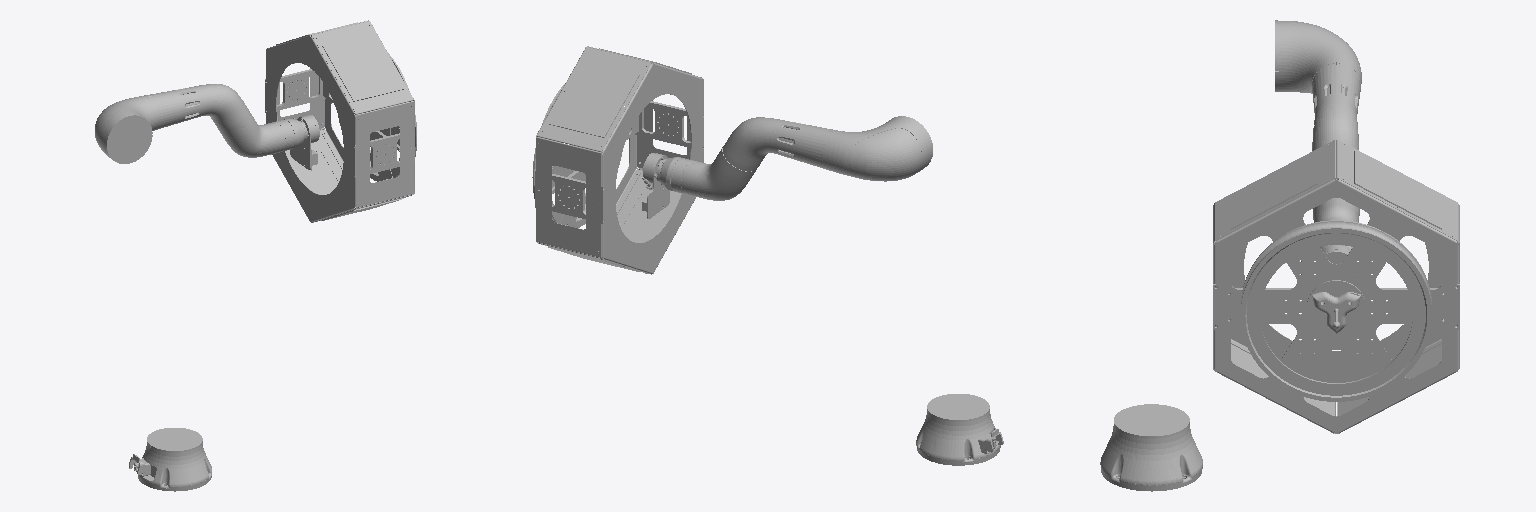
The robot description file, URDF, robot "yl102_sat_core_7dof":
<?xml version="1.0" encoding="utf-8"?>

<robot name="yl102_sat_core_7dof">
<link name="world"/>
  <link name="link0">

                      
    <inertial>
      <origin xyz="0.000247812 0.000247476 0.0505918" rpy="0 0 0" />
      <mass value="4.59375" />
      <inertia ixx="0.0152439" ixy="0.000200106" ixz="0.000124082" iyy="0.0273594" iyz="1.06874e-05" izz="0.0370589" />
    </inertial>
    <visual>
      <origin xyz="0 0 0" rpy="0 0 0" />
      <geometry>
        <mesh filename="meshes/link0.stl"    />
      </geometry>
      <material name="">
        <color rgba="0.75294 0.75294 0.75294 1" />
      </material>
    </visual>
    <collision>
      <origin xyz="0 0 0" rpy="0 0 0" />
      <geometry>
        <mesh filename="meshes/link0.stl"    />
      </geometry>
    </collision>
  </link>

  <link name="link1">
    <inertial>
    <origin xyz="0.000142015 0.0285074 0.119455" rpy="0 0 0" />
    <mass value="10.51657" />
    <inertia ixx="0.0551209" ixy="-5.13223e-05" ixz="-4.83089e-05" iyy="0.0494305" iyz="-0.0110939" izz="0.0363787" />
  </inertial>
    <visual>
      <origin xyz="0 0 0" rpy="0 0 0" />
      <geometry>
        <mesh filename="meshes/link1.stl"    />
      </geometry>
      <material name="">
        <color rgba="0.75294 0.75294 0.75294 1" />
      </material>
    </visual>
    <collision>
      <origin xyz="0 0 0" rpy="0 0 0" />
      <geometry>
        <mesh filename="meshes/link1.stl"    />
      </geometry>
    </collision>
  </link>

  <link name="link2">
<inertial>
  <origin xyz="0.297682 0.000392564 0.0575885" rpy="0 0 0" />
  <mass value="13.550371" />
  <inertia ixx="0.102354" ixy="0.147595" ixz="0.00104147" iyy="1.48599" iyz="-0.000372513" izz="1.43248" />
</inertial>
    <visual>
      <origin xyz="0 0 0" rpy="0 0 0" />
      <geometry>
        <mesh filename="meshes/link2.stl"    />
      </geometry>
      <material name="">
        <color rgba="0.75294 0.75294 0.75294 1" />
      </material>
    </visual>
    <collision>
      <origin xyz="0 0 0" rpy="0 0 0" />
      <geometry>
        <mesh filename="meshes/link2.stl"    />
      </geometry>
    </collision>
  </link>

  <link name="link3">

<inertial>
  <origin xyz="0.0320635 0.000171503 0.0829559" rpy="0 0 0" />
  <mass value="5.290133" />
  <inertia ixx="0.0153011" ixy="-0.00582277" ixz="2.85545e-05" iyy="0.022998" iyz="-2.03293e-05" izz="0.0180684" />
</inertial>
    <visual>
      <origin xyz="0 0 0" rpy="0 0 0" />
      <geometry>
        <mesh filename="meshes/link3.stl"    />
      </geometry>
      <material name="">
        <color rgba="0.75294 0.75294 0.75294 1" />
      </material>
    </visual>
    <collision>
      <origin xyz="0 0 0" rpy="0 0 0" />
      <geometry>
        <mesh filename="meshes/link3.stl"    />
      </geometry>
    </collision>
  </link>

  <link name="link4">
<inertial>
  <origin xyz="0.013664 -0.000984818 0.150329" rpy="0 0 0" />
  <mass value="3.595617" />
  <inertia ixx="0.0268371" ixy="-0.0043623" ixz="2.99902e-05" iyy="0.0282347" iyz="0.000149903" izz="0.00518421" />
</inertial>

    <visual>
      <origin xyz="0 0 0" rpy="0 0 0" />
      <geometry>
        <mesh filename="meshes/link4.stl"    />
      </geometry>
      <material name="">
        <color rgba="0.75294 0.75294 0.75294 1" />
      </material>
    </visual>
    <collision>
      <origin xyz="0 0 0" rpy="0 0 0" />
      <geometry>
        <mesh filename="meshes/link4.stl"    />
      </geometry>
    </collision>
  </link>

  <link name="link5">
<inertial>
  <origin xyz="0.015522 0.000368096 0.0840352" rpy="0 0 0" />
  <mass value="2.643843" />
  <inertia ixx="0.00606419" ixy="-0.0016915" ixz="-1.2174e-05" iyy="0.00720539" iyz="-2.18997e-05" izz="0.00353509" />
</inertial>
    <visual>
      <origin xyz="0 0 0" rpy="0 0 0" />
      <geometry>
        <mesh filename="meshes/link5.stl"    />
      </geometry>
      <material name="">
        <color rgba="0.75294 0.75294 0.75294 1" />
      </material>
    </visual>
    <collision>
      <origin xyz="0 0 0" rpy="0 0 0" />
      <geometry>
        <mesh filename="meshes/link5.stl"    />
      </geometry>
    </collision>
  </link>

  <link name="link6">
  <inertial>
    <origin xyz="0.000133705 -0.000192709 0.0334362" rpy="0 0 0" />
    <mass value="1.094456" />
    <inertia ixx="0.000502088" ixy="-4.44825e-07" ixz="2.32639e-07" iyy="0.000502074" iyz="-3.01736e-07" izz="0.000531034" />
  </inertial>
    <visual>
      <origin xyz="0 0 0" rpy="0 0 0" />
      <geometry>
        <mesh filename="meshes/link6.stl"    />
      </geometry>
      <material name="">
        <color rgba="0.75294 0.75294 0.75294 1" />
      </material>
    </visual>
    <collision>
      <origin xyz="0 0 0" rpy="0 0 0" />
      <geometry>
        <mesh filename="meshes/link6.stl"    />
      </geometry>
    </collision>
  </link>

 

  <link name="link_flange">
  <inertial>
    <origin xyz="-0.03225391 -0.0007543 0.02048268" rpy="0 0 0" />
    <mass value="0.71" />
    <inertia ixx="0.00052611" ixy="-0.00002865" ixz="0.00005824" iyy="0.00131947" iyz="0.00001746" izz="0.00166657" />
  </inertial>
    <visual>
      <origin xyz="0 0 0" rpy="0 0 0" />
      <geometry>
        <mesh filename="meshes/link_FT.stl"    />
      </geometry>
      <material name="">
        <color rgba="0.75294 0.75294 0.75294 1" />
      </material>
    </visual>
    <collision>
      <origin xyz="0 0 0" rpy="0 0 0" />
      <geometry>
        <mesh filename="meshes/link_FT.stl"    />
      </geometry>
    </collision>
  </link>

  <link name="link_ft">
  <inertial>
    <origin xyz="0 0 00" rpy="0 0 0" />
    <mass value="00" />
    <inertia ixx="0" ixy="0.0" ixz="0.0" iyy="0.0" iyz="0.0" izz="0.0" />
  </inertial>
  </link>

  <link name="link_core">
  <inertial>
    <origin xyz="-0.00 -0.00001028 0.11262145" rpy="0 0 0" />
    <mass value="1.97" />
    <inertia ixx="0.00420351" ixy="0.0" ixz="0.0" iyy="0.00420293" iyz="0.00000196" izz="0.00081619" />
  </inertial>
    <visual>
      <origin xyz="0 0 0" rpy="0 0 0" />
      <geometry>
        <mesh filename="meshes/link_CORE100.stl"    />
      </geometry>
      <material name="">
        <color rgba="0.75294 0.75294 0.75294 1" />
      </material>
    </visual>
    <collision>
      <origin xyz="0 0 0" rpy="0 0 0" />
      <geometry>
        <mesh filename="meshes/link_CORE100.stl"    />
      </geometry>
    </collision>
  </link>

  <link name="link_tcp_CoM">
  <inertial>
    <origin xyz="0 0 00" rpy="0 0 0" />
    <mass value="00" />
    <inertia ixx="0" ixy="0.0" ixz="0.0" iyy="0.0" iyz="0.0" izz="0.0" />
  </inertial>
  </link>

  <link name="link_sat">
  <inertial>
    <origin xyz="-0.00001548 -0.00000864 -0.04116212" rpy="0 0 0" />
    <mass value="6.066" />
    <inertia ixx="0.20623419" ixy="0.00000992" ixz="0.00000431" iyy="0.16710638" iyz="0.00000249" izz="0.29462577" />
  </inertial>
    <visual>
      <origin xyz="0 0 0" rpy="0 0 0" />
      <geometry>
        <mesh filename="meshes/link_sat_without_pannel.stl"    />
      </geometry>
      <material name="">
        <color rgba="0.75294 0.75294 0.75294 1" />
      </material>
    </visual>
    <collision>
      <origin xyz="0 0 0" rpy="0 0 0" />
      <geometry>
        <mesh filename="meshes/link_sat_without_pannel.stl"    />
      </geometry>
    </collision>
  </link>


<!-- joints -->
<joint name="world_fixed" type="fixed">
   <parent link="world" />
    <child link="link0" />
</joint>
  <joint name="joint0" type="revolute">
    <origin xyz="0 0 0.11475" rpy="0 0 0" />
    <parent link="link0" />
    <child link="link1" />
    <axis xyz="0 0 1" />
    <limit
      lower="-3.141592"
      upper="3.141592"
      effort="400"
      velocity="3" />
  </joint>

  <joint name="joint1" type="revolute">
    <origin xyz="0 0.11975 0.1639" rpy="0  -1.570796327    -1.570796327" />
    <parent link="link1" />
    <child link="link2" />
    <axis xyz="0 0 1" />
    <limit
      upper="4.712388"
      lower="-1.570796"
      effort="400"
      velocity="2.5" />
  </joint>

  <joint name="joint2" type="revolute">
    <origin xyz="0.674 0 0.13729" rpy="0 0 1.570796327" />
    <parent link="link2" />
    <child link="link3" />
    <axis xyz="0 0 1" />
    <limit
      lower="-3.141592"
      upper="3.141592"
      effort="100"
      velocity="2.6179938779914944" />
  </joint>

  <joint name="joint3" type="revolute">
    <origin xyz="0.14461 0.0 0.12844" rpy="1.570796327 0 1.570796327 " />
    <parent link="link3" />
    <child link="link4" />
    <axis xyz="0 0 1" />
    <limit
      lower="-3.141592"
      upper="3.141592"
      effort="49"
      velocity="2.6179938779914944" />
  </joint>

  <joint name="joint4" type="revolute">
  <!-- 0      1.0471975511966   -3.14159265358979 -->
    <origin xyz="0.08141 0 0.26886" rpy="  3.14159265358979      -2.0943951023932   0" />
    <parent link="link4" />
    <child link="link5" />
    <axis xyz="0 0 1" />
    <limit
      lower="-3.141592"
      upper="3.141592"
      effort="54.88"
      velocity="3.141592653589793" />
  </joint>

  <joint name="joint5" type="revolute">
    <origin xyz="0.08259 0 0.15411" rpy="0  1.0471975511966  0" />
    <parent link="link5" />
    <child link="link6" />
    <axis xyz="0 0 1" />
    <limit
      lower="-3.141592"
      upper="3.141592"
      effort="54.88"
      velocity="3.141592653589793" />
  </joint>

 
  <joint name="flange_fixed" type="fixed">
    <origin xyz="0 0 0.07385" rpy="0 0 0" />
    <parent link="link6" />
    <child link="link_flange" />
    <axis xyz="0 0 0" />
  </joint>

  <joint name="ft_fixed" type="fixed">
    <origin xyz="0 0 0.0312" rpy="0 0 0" />
    <parent link="link_flange" />
    <child link="link_ft" />
    <axis xyz="0 0 0" />
  </joint>

  <joint name="core_fixed" type="fixed">
    <origin xyz="0 0 0.01" rpy="0 0 0" />
    <parent link="link_ft" />
    <child link="link_core" />
    <axis xyz="0 0 0" />
  </joint>
  
  <joint name="joint6" type="revolute">
    <origin xyz="0 0 0.1765" rpy="0 0 0" />
    <parent link="link_core" />
    <child link="link_sat" />
    <axis xyz="0 0 1" />
    <limit
      lower="-3.141592"
      upper="3.141592"
      effort="54.88"
      velocity="3.141592653589793" />    
  </joint>

  <joint name="tcp_CoM_fixed" type="fixed">
    <origin xyz="-0.00001166 -0.00000932 -0.04673098" rpy="0 0 0" />
    <parent link="link_sat" />
    <child link="link_tcp_CoM" />
    <axis xyz="0 0 0" />
  </joint>
</robot>

--- Render facts (derived) ---
Views: 3 orthographic renders of the robot side by side, from view 1: azimuth 30°, elevation 25°; view 2: azimuth 150°, elevation 25°; view 3: azimuth 270°, elevation 25°.
Model yl102_sat_core_7dof with 13 links and 12 joints (7 revolute, 5 fixed), rooted at world, posed every joint at zero.
Links seen in each view (by area): view 1: link_sat, link0, link3, link4, link5, link_flange, link6; view 2: link_sat, link3, link0, link4, link5, link_flange, link6; view 3: link_sat, link0, link3, link4, link5.
Boxes of the visible links, x1,y1,x2,y2 form: link_sat: [265, 20, 416, 222]; link0: [129, 428, 211, 491]; link3: [95, 95, 159, 163]; link4: [150, 84, 248, 131]; link5: [218, 111, 285, 157]; link_flange: [290, 115, 319, 170]; link6: [276, 119, 305, 150]; link_sat: [532, 46, 703, 274]; link3: [822, 116, 932, 181]; link0: [916, 394, 1003, 465]; link4: [723, 117, 834, 171]; link5: [681, 147, 756, 200]; link_flange: [641, 153, 669, 218]; link6: [658, 157, 692, 194]; link_sat: [1213, 140, 1459, 433]; link0: [1100, 404, 1202, 491]; link3: [1275, 20, 1361, 93]; link4: [1312, 63, 1360, 150]; link5: [1313, 198, 1359, 222].
Size in the robot's own frame: 1.09 by 0.7496 by 1.07 metres.
7 mesh visuals loaded from 10 distinct referenced files (7 binary STL); not drawn: 3 (reference not matched to a file when rendering).
